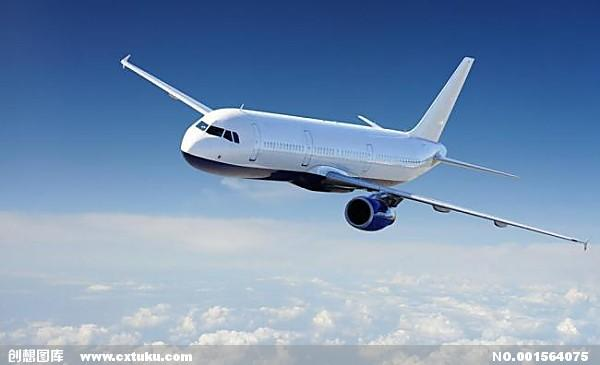airplane: (113, 47, 594, 250)
